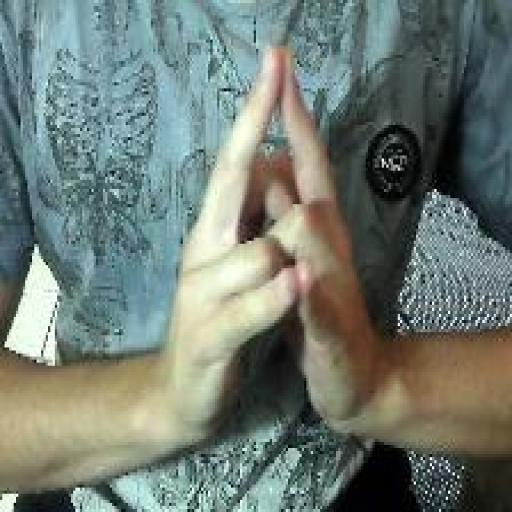Tori -bird-: (162, 38, 380, 459)
